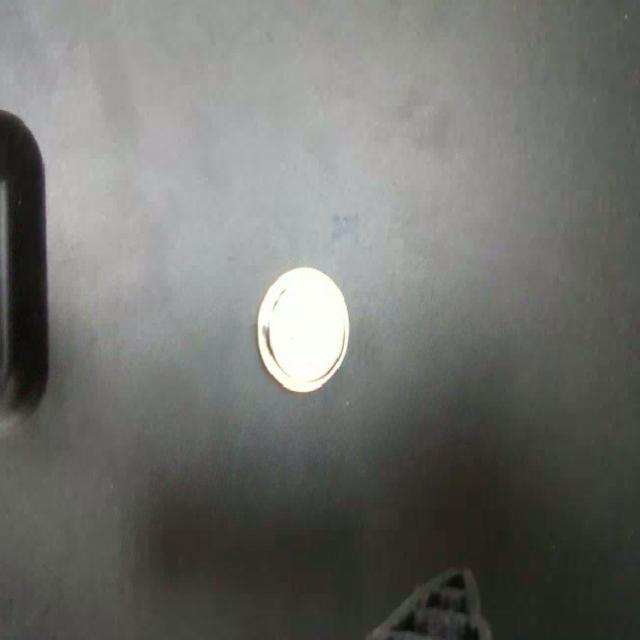sensor: (256, 264, 351, 392)
